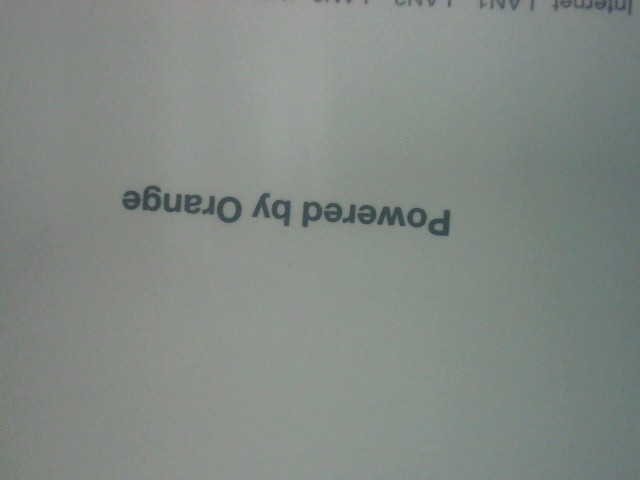AS_PowerByOrange: (119, 177, 468, 240)
